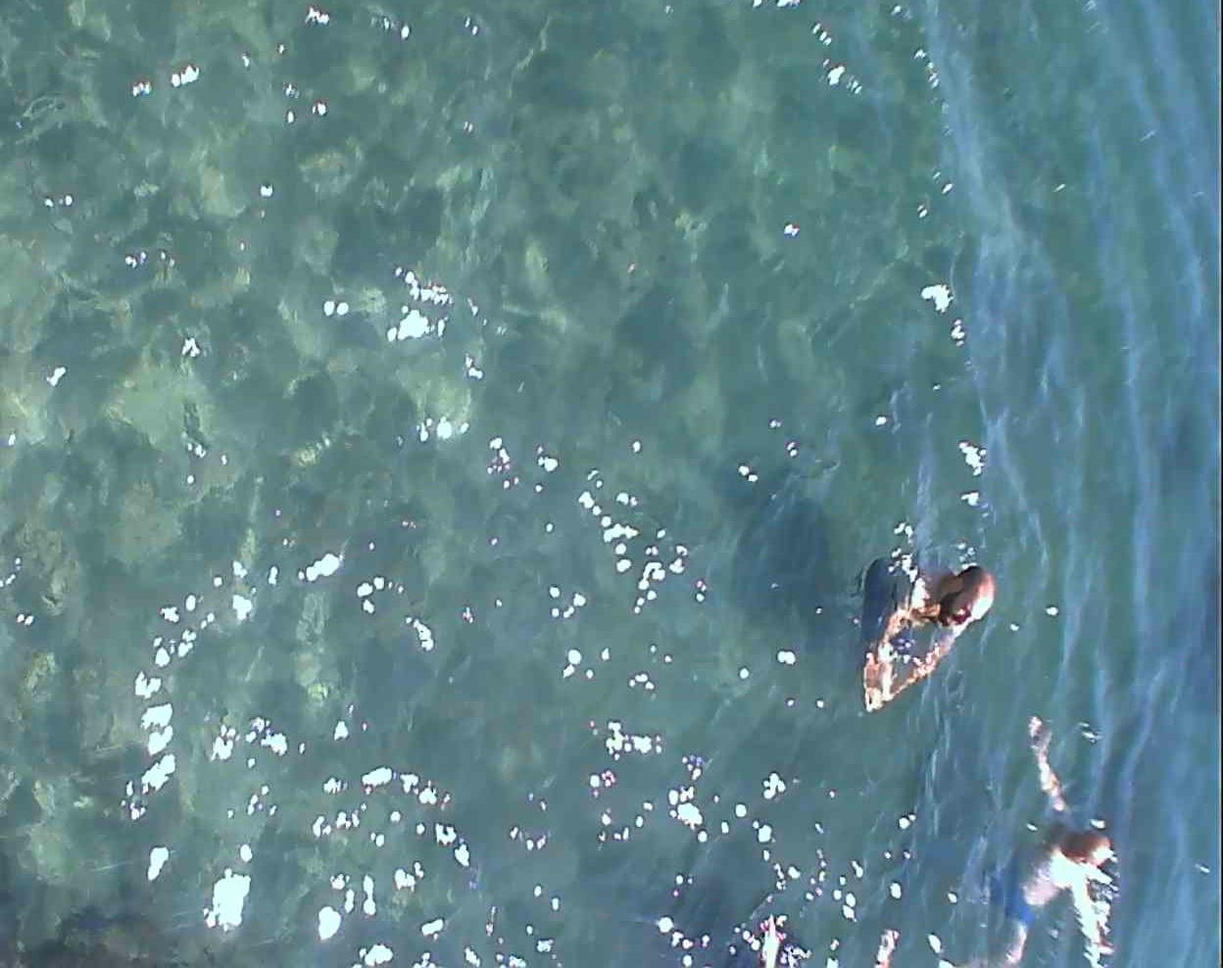swimmer: (872, 532, 990, 727), (1, 1, 1, 1)
